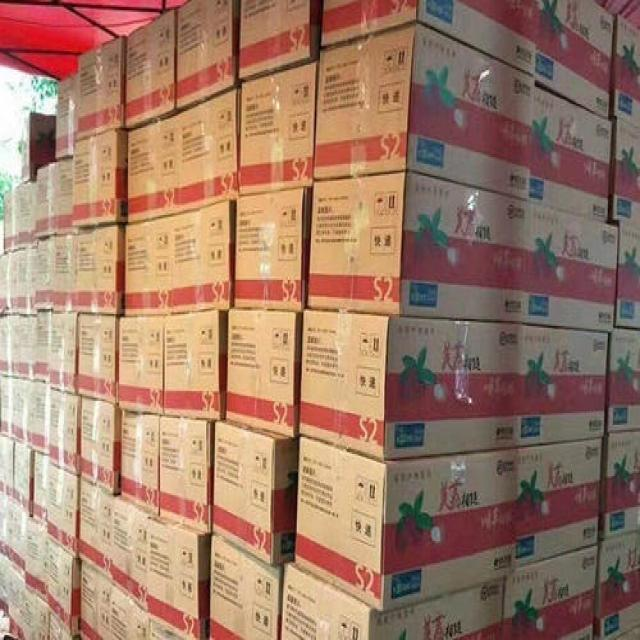box: (294, 435, 518, 613), (312, 22, 534, 200), (298, 309, 525, 461), (308, 172, 529, 323), (282, 561, 504, 640), (320, 0, 539, 75), (211, 420, 298, 567), (525, 201, 618, 333), (513, 439, 602, 568), (531, 89, 613, 222), (520, 324, 609, 444), (237, 63, 317, 195), (224, 307, 303, 439), (234, 186, 312, 309), (536, 0, 613, 118), (504, 546, 596, 640), (175, 87, 239, 213), (209, 534, 282, 640), (147, 517, 209, 640), (175, 0, 239, 113), (173, 198, 236, 312), (164, 309, 228, 420), (159, 415, 212, 534), (125, 7, 175, 130), (238, 0, 310, 84), (72, 126, 127, 227), (111, 495, 156, 613), (77, 34, 127, 140), (127, 116, 175, 224), (125, 215, 174, 316), (595, 531, 640, 640), (598, 430, 640, 541), (73, 224, 124, 314), (118, 316, 164, 415), (79, 396, 122, 497), (77, 312, 119, 404), (122, 411, 159, 515), (604, 328, 640, 432), (609, 14, 640, 130), (79, 481, 113, 580), (611, 118, 640, 230), (47, 464, 79, 560), (47, 539, 79, 635), (19, 111, 55, 184), (49, 391, 79, 478), (79, 561, 111, 640), (616, 224, 640, 329), (49, 311, 77, 394), (111, 584, 148, 640), (24, 519, 47, 606), (55, 72, 77, 160), (50, 157, 74, 234), (52, 236, 73, 311), (28, 381, 49, 456), (20, 592, 49, 640), (32, 452, 49, 532), (33, 164, 51, 237), (33, 311, 50, 384), (36, 239, 52, 309)
